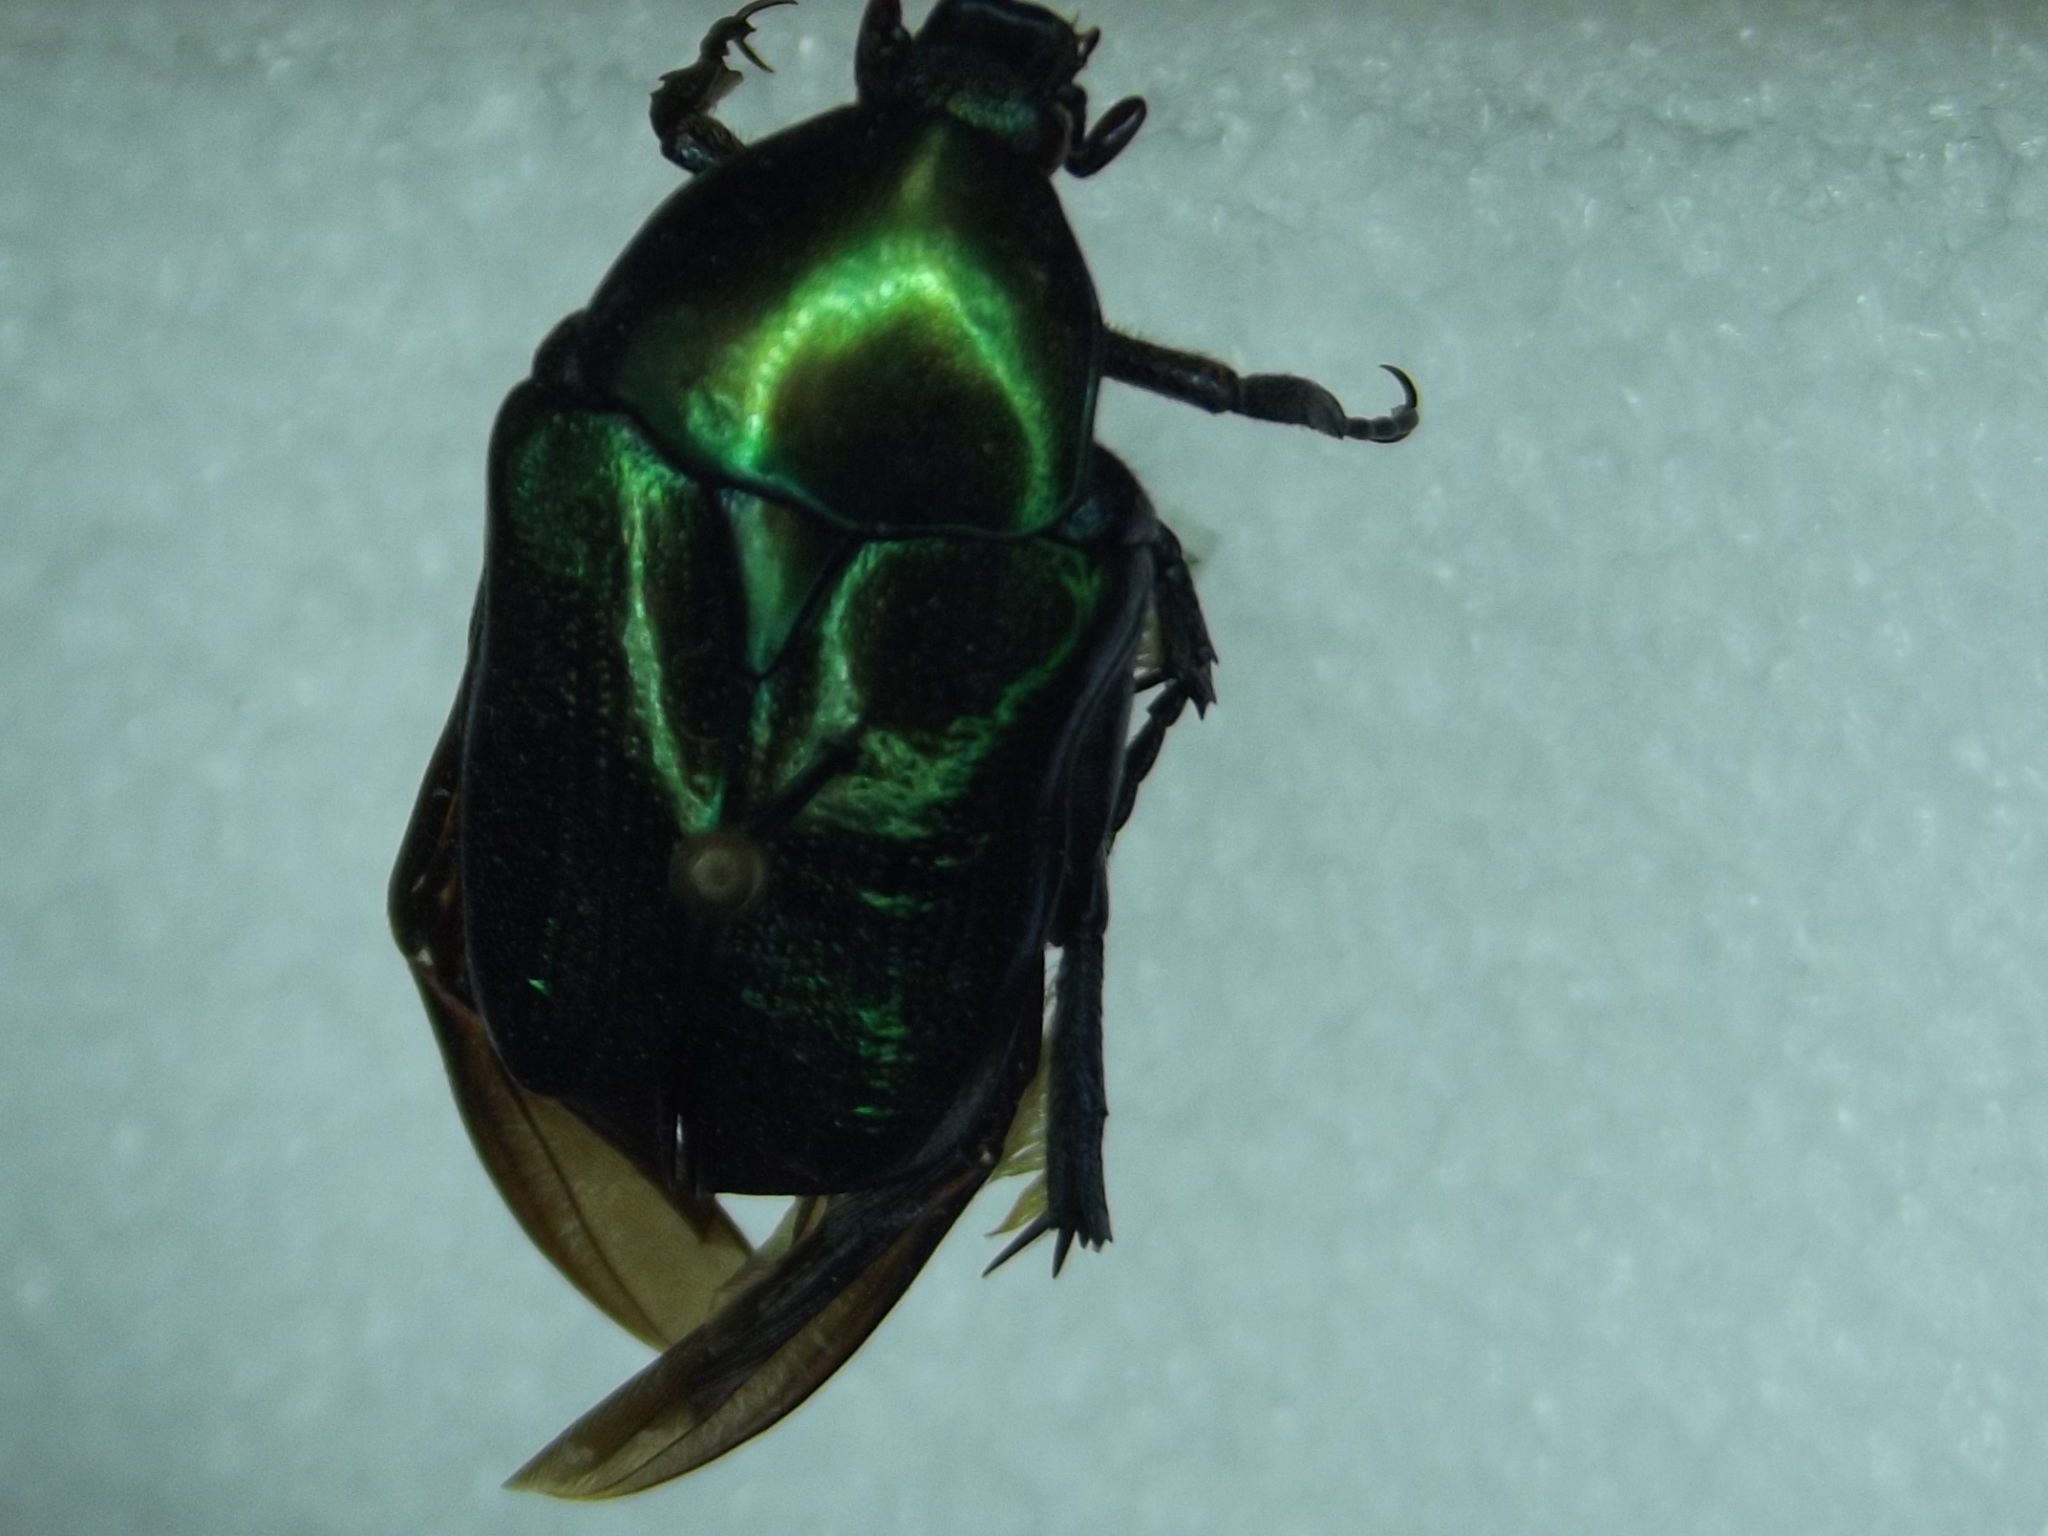Protaetia_angustata_angustata: (374, 2, 1298, 1510)
